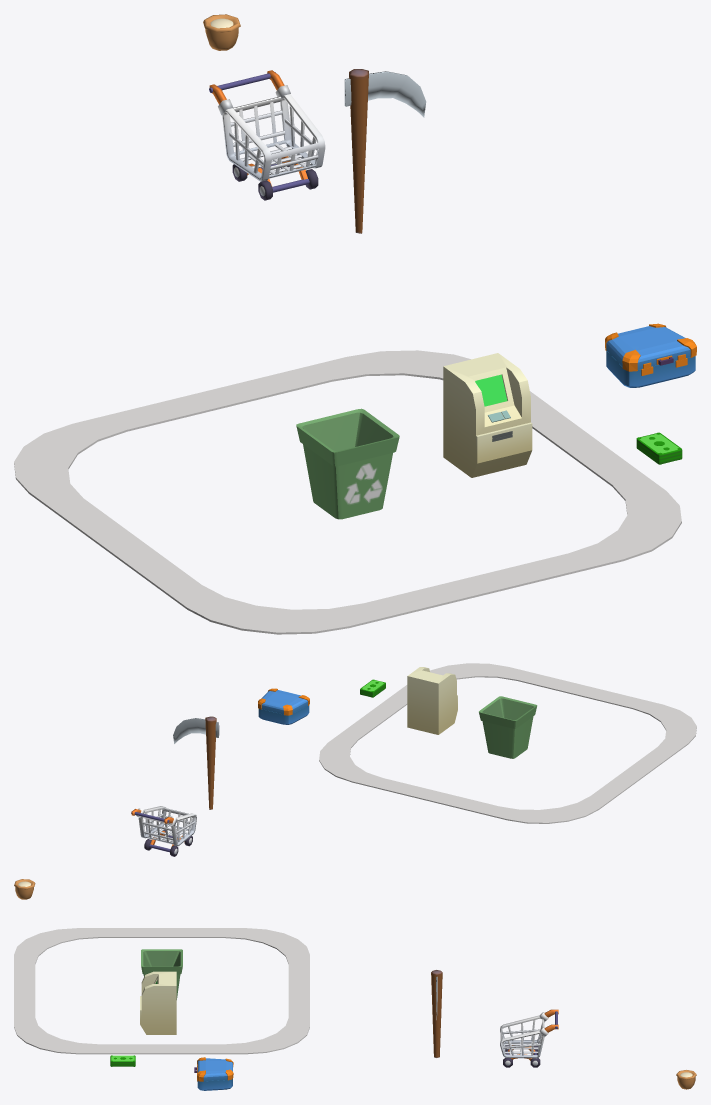
File: Item.fbx
The picture shows the model from 3 angles, top to bottom: view 1: azimuth 30°, elevation 25°; view 2: azimuth 150°, elevation 25°; view 3: azimuth 270°, elevation 25°; orthographic projection. The views are drawn at different scales.
Visible parts, largest first — view 1: Floor, ATM, Trash, Shopping_cart, Scythe, pCube30, Bag, Seed, Money; view 2: Floor, ATM, Trash, Shopping_cart, Scythe, pCube30, Bag; view 3: Floor, ATM, Shopping_cart, Trash, pCube30, Scythe, Bag, Seed, Money.
Boxes of the visible parts, bbox=[...] form: Floor: bbox=[14, 350, 681, 634]; ATM: bbox=[443, 353, 532, 477]; Trash: bbox=[296, 408, 399, 519]; Shopping_cart: bbox=[209, 70, 325, 200]; Scythe: bbox=[344, 69, 426, 233]; pCube30: bbox=[605, 323, 696, 371]; Bag: bbox=[606, 350, 695, 387]; Seed: bbox=[203, 14, 240, 50]; Money: bbox=[636, 432, 682, 464]; Floor: bbox=[319, 663, 696, 823]; ATM: bbox=[407, 667, 457, 734]; Trash: bbox=[479, 696, 537, 758]; Shopping_cart: bbox=[131, 806, 196, 856]; Scythe: bbox=[173, 716, 219, 809]; pCube30: bbox=[258, 688, 309, 715]; Bag: bbox=[258, 705, 309, 724]; Floor: bbox=[14, 928, 309, 1054]; ATM: bbox=[140, 971, 176, 1034]; Shopping_cart: bbox=[500, 1009, 558, 1067]; Trash: bbox=[141, 949, 182, 999]; pCube30: bbox=[194, 1057, 233, 1081]; Scythe: bbox=[431, 970, 442, 1057]; Bag: bbox=[197, 1078, 232, 1090]; Seed: bbox=[676, 1070, 696, 1089]; Money: bbox=[110, 1055, 135, 1066].
Bounding box in the file's own units: 30.58 × 8.37 × 54.05.
